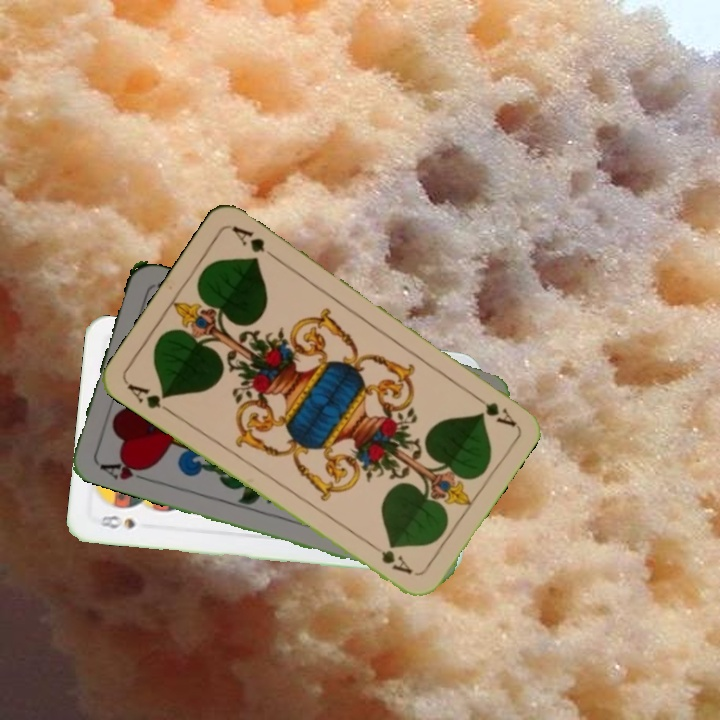GA: (467, 389, 519, 429), (123, 379, 176, 417)
HA: (95, 455, 154, 485)
S8: (96, 511, 138, 531)
